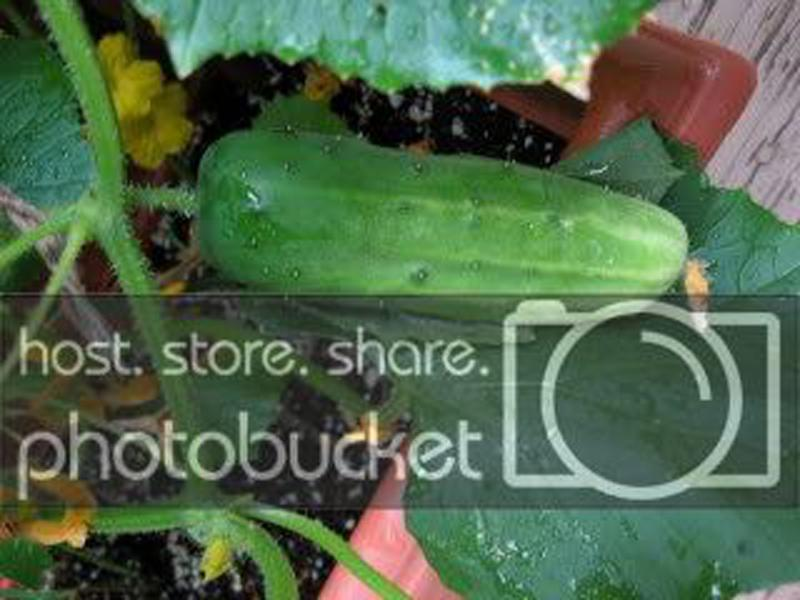Cucumber: (200, 128, 692, 325)
